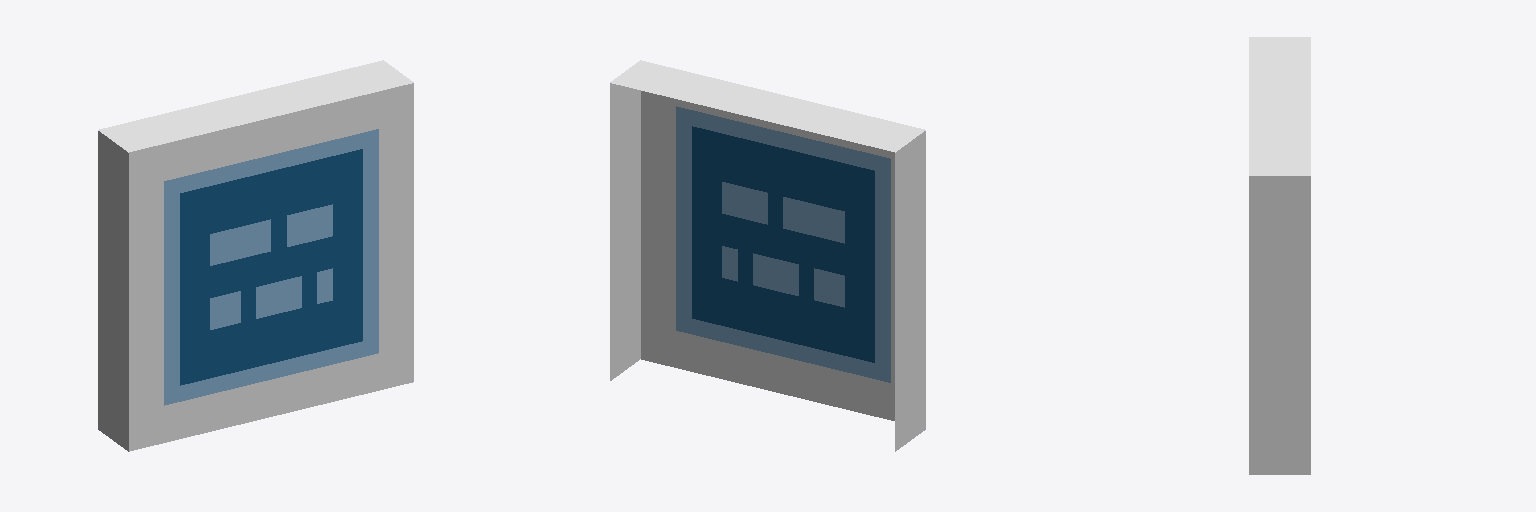
3 renders of one model, left to right at view 1: azimuth 30°, elevation 25°; view 2: azimuth 150°, elevation 25°; view 3: azimuth 270°, elevation 25°, orthographic.
Parts seen in each view (by area): view 1: polygon0; view 2: polygon0; view 3: polygon0.
Boxes of the visible parts, x1=… form: polygon0: x1=98, y1=60, x2=413, y2=451; polygon0: x1=610, y1=60, x2=925, y2=451; polygon0: x1=1249, y1=37, x2=1310, y2=474.
Bounding box in the file's own units: 1 × 1 × 0.1875.
Materials: 1 (1 with a texture image).